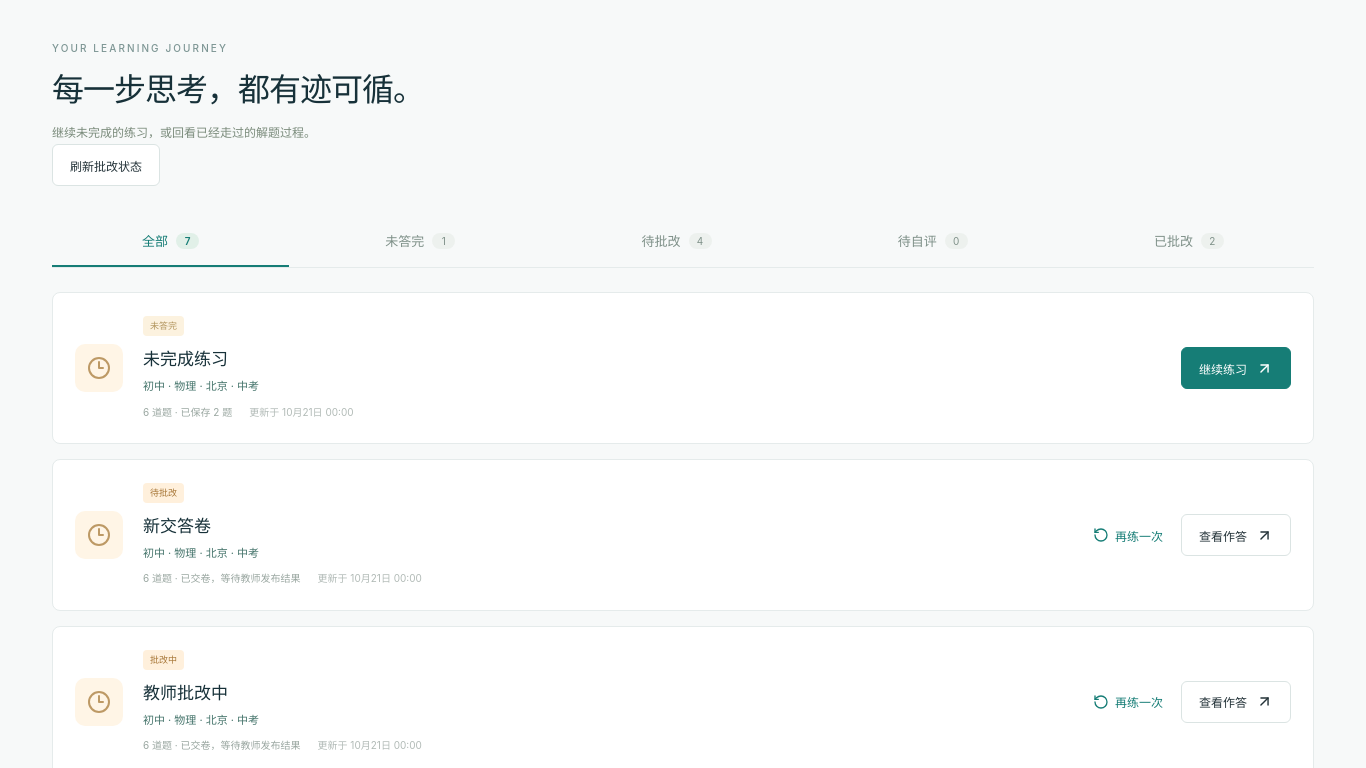
Scenario: 按未完成、等待发布和已批改分区，兼容旧记录、零分和缺失成绩
Click the tab "未答完 1".
click(420, 242)  # box [295, 216, 545, 267]
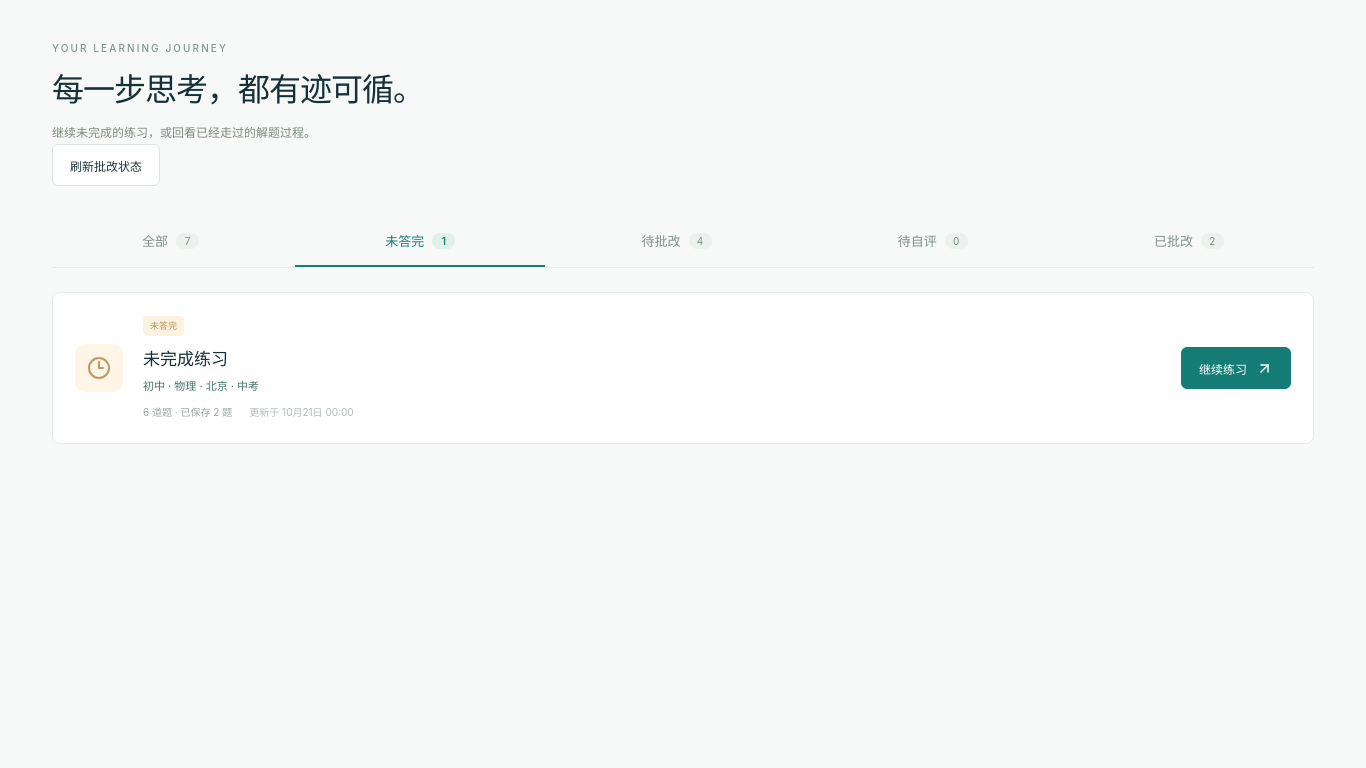
Click the tab "待批改 4".
click(676, 242)  # box [551, 216, 802, 267]
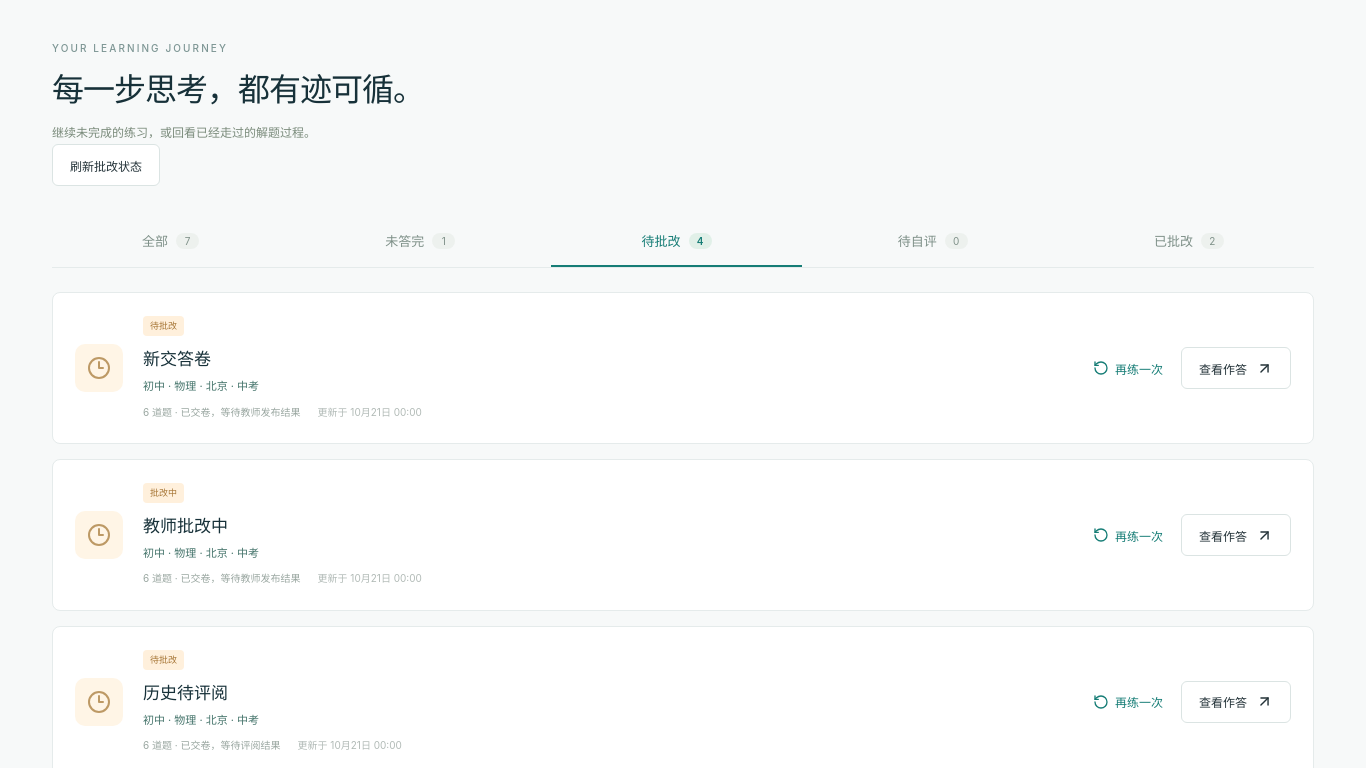
Click the tab "已批改 2".
click(1189, 242)  # box [1064, 216, 1314, 267]
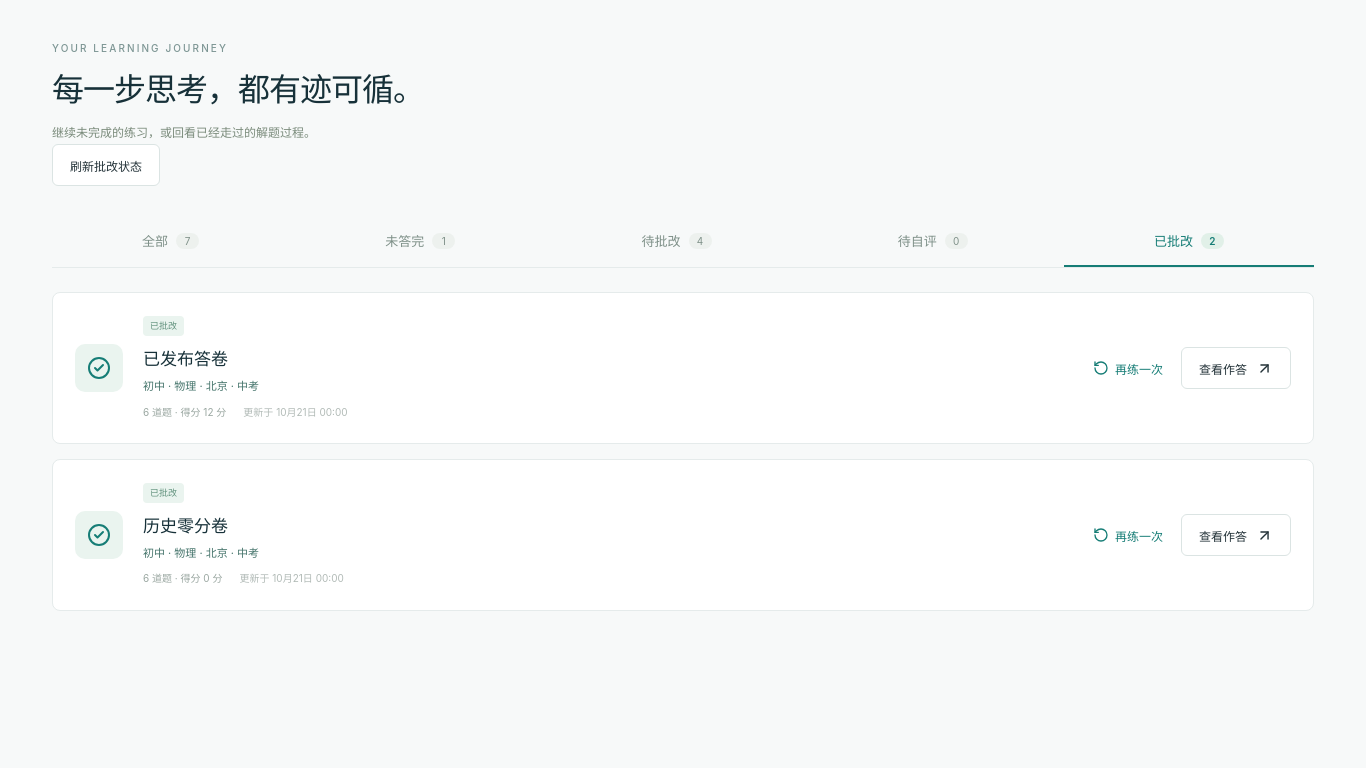
Expected: the text "得分 0 分" is shown, [180, 572, 222, 584]
